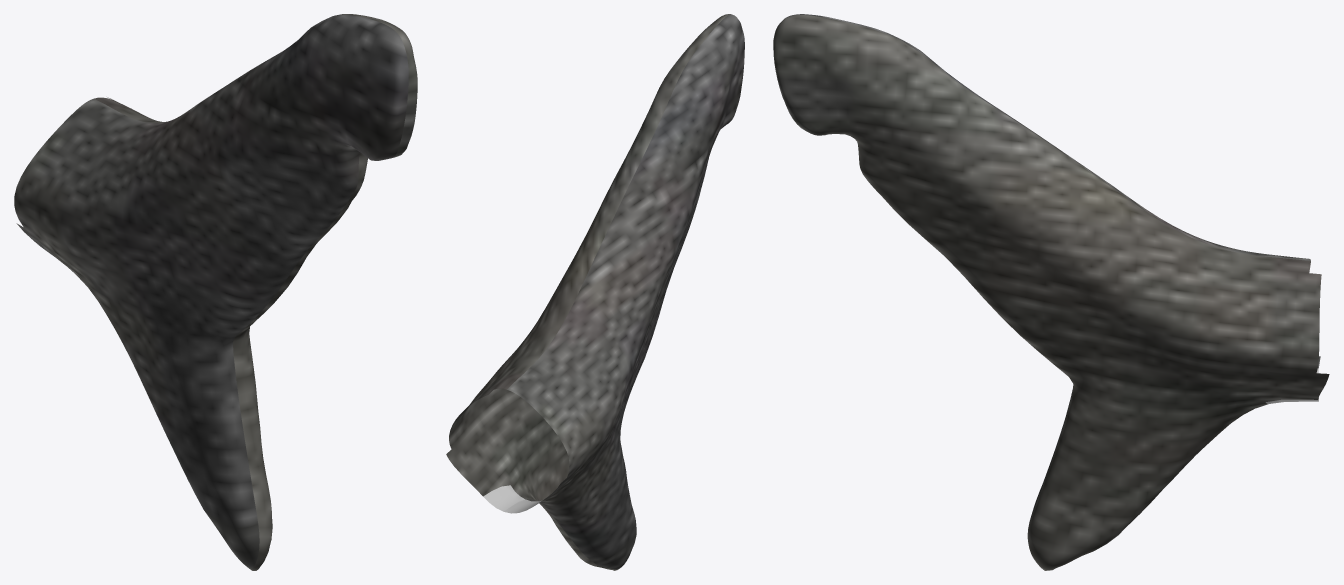
Rendered from colat.obj.
3 views of the same model, side by side, from view 1: azimuth 30°, elevation 25°; view 2: azimuth 150°, elevation 25°; view 3: azimuth 270°, elevation 25° (orthographic). The views are drawn at different scales.
Parts seen in each view (by area): view 1: polySurface1 tiburon:_Tiger_Shark_v1; view 2: polySurface1 tiburon:_Tiger_Shark_v1; view 3: polySurface1 tiburon:_Tiger_Shark_v1.
Part boxes in pixels (x1,y1,x2,y2): polySurface1 tiburon:_Tiger_Shark_v1: (14,14,417,570); polySurface1 tiburon:_Tiger_Shark_v1: (446,14,744,570); polySurface1 tiburon:_Tiger_Shark_v1: (773,14,1329,570).
Size of the model in its own units: 1.35 by 5.06 by 4.62.
2 materials, 2 textured.
